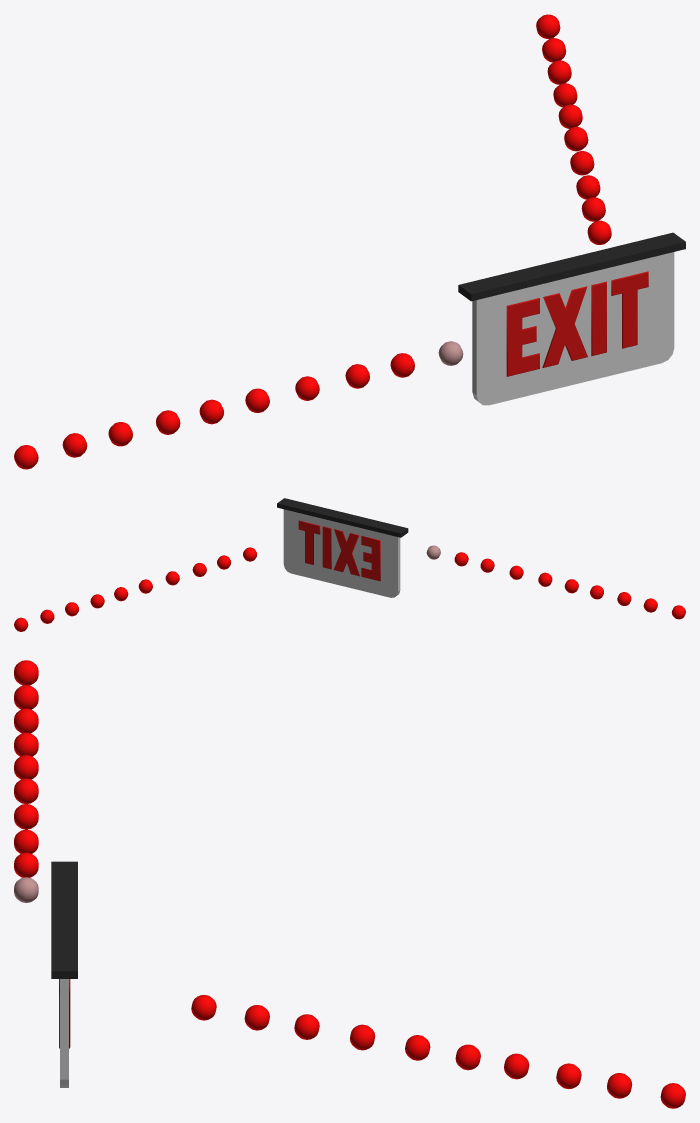
Rendered from Project Name.obj.
3 views of the same model, one above another, from view 1: azimuth 30°, elevation 25°; view 2: azimuth 150°, elevation 25°; view 3: azimuth 270°, elevation 25° (orthographic). The views are drawn at different scales.
Visible parts, largest first — view 1: 022_Buffer_Layer, 020_Text, 021_Cube; view 2: 022_Buffer_Layer, 020_Text, 021_Cube; view 3: 021_Cube, 022_Buffer_Layer.
Boxes of the visible parts, left/top/right/bottom form: 022_Buffer_Layer: left=472, top=252, right=674, bottom=405; 020_Text: left=506, top=271, right=648, bottom=376; 021_Cube: left=458, top=232, right=685, bottom=301; 022_Buffer_Layer: left=283, top=509, right=400, bottom=597; 020_Text: left=298, top=520, right=380, bottom=581; 021_Cube: left=277, top=498, right=408, bottom=537; 021_Cube: left=51, top=861, right=77, bottom=978; 022_Buffer_Layer: left=60, top=979, right=68, bottom=1087.
Bounding box in the file's own units: 397 × 53.24 × 259.
23 materials, 1 textured.
